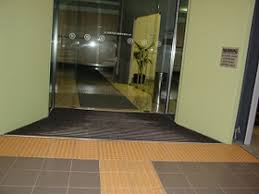guide_blocks: (1, 136, 259, 163), (96, 162, 165, 194)
